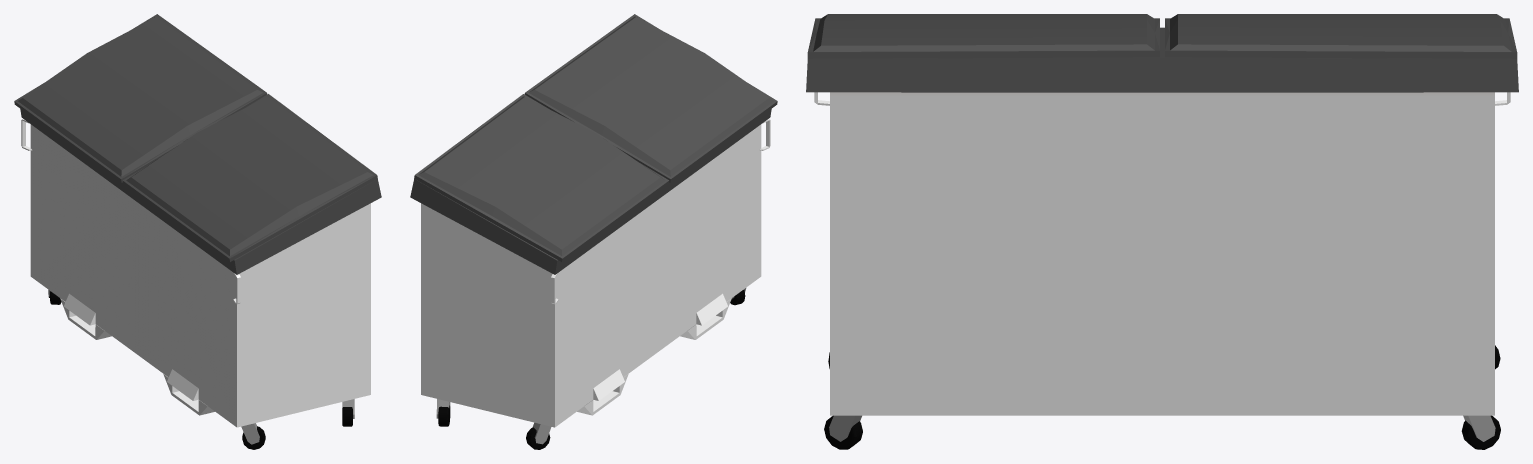
File: dumpster_Model.FBX
3 views of the same model, side by side, from view 1: azimuth 30°, elevation 25°; view 2: azimuth 150°, elevation 25°; view 3: azimuth 270°, elevation 25° (orthographic). The views are drawn at different scales.
Parts seen in each view (by area): view 1: dumpster_low; view 2: dumpster_low; view 3: dumpster_low.
Boxes of the visible parts, left/top/right/bottom form: dumpster_low: left=14, top=14, right=381, bottom=449; dumpster_low: left=410, top=14, right=777, bottom=449; dumpster_low: left=806, top=14, right=1518, bottom=449.
Bounding box in the file's own units: 40.66 × 66.14 × 103.
Materials: 1 (1 with a texture image).
